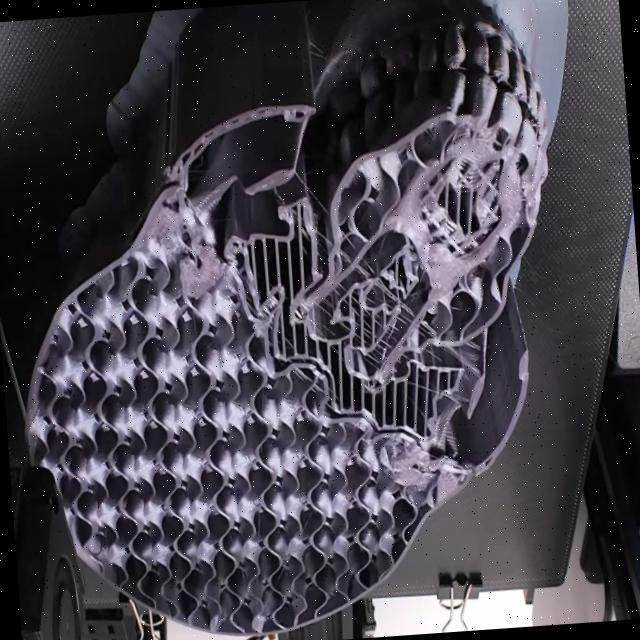stringing: (302, 245, 417, 380), (438, 319, 488, 408), (442, 121, 500, 197)
